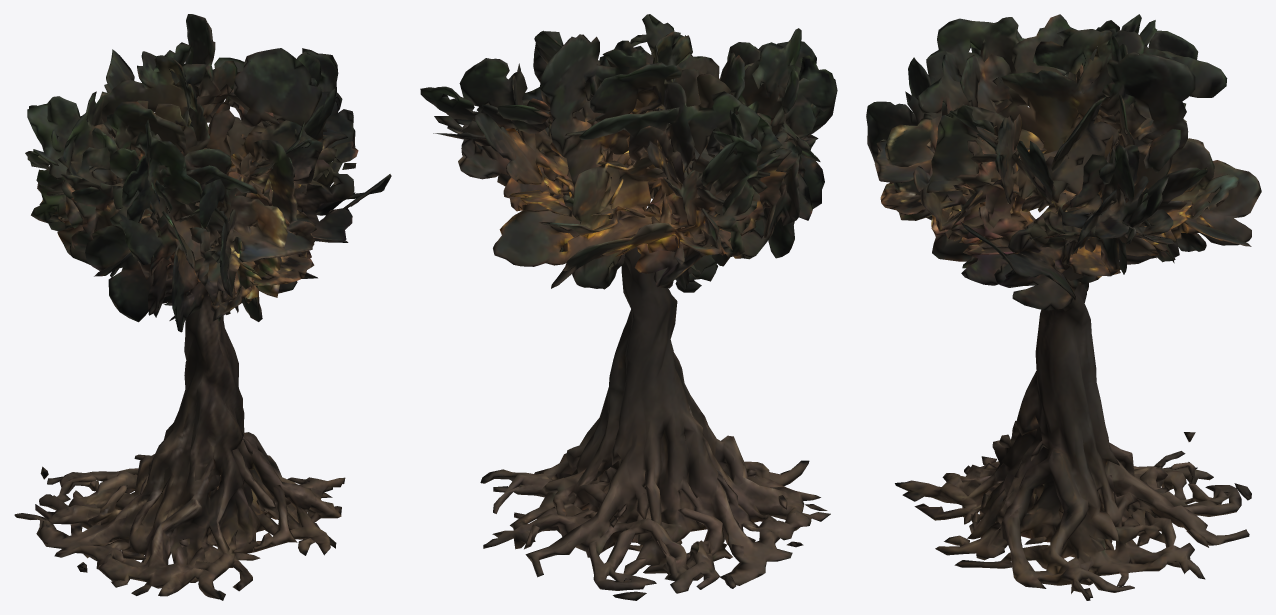
The model's file is AI_EnergyTree.fbx.
The picture shows the model from 3 angles, left to right: view 1: azimuth 30°, elevation 25°; view 2: azimuth 150°, elevation 25°; view 3: azimuth 270°, elevation 25°; orthographic projection. The views are drawn at different scales.
Parts seen in each view (by area): view 1: Mesh1.0; view 2: Mesh1.0; view 3: Mesh1.0.
Boxes of the visible parts, x1,y1,x2,y2 form: Mesh1.0: (14,14,391,600); Mesh1.0: (420,14,837,600); Mesh1.0: (866,14,1261,600).
Bounding box in the file's own units: 138 × 199 × 142.
1 material, 1 textured.
